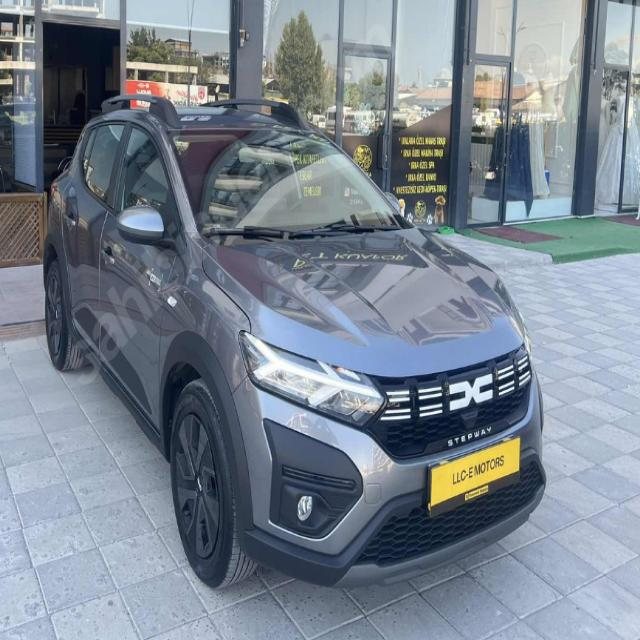dacia: (444, 372, 498, 413)
